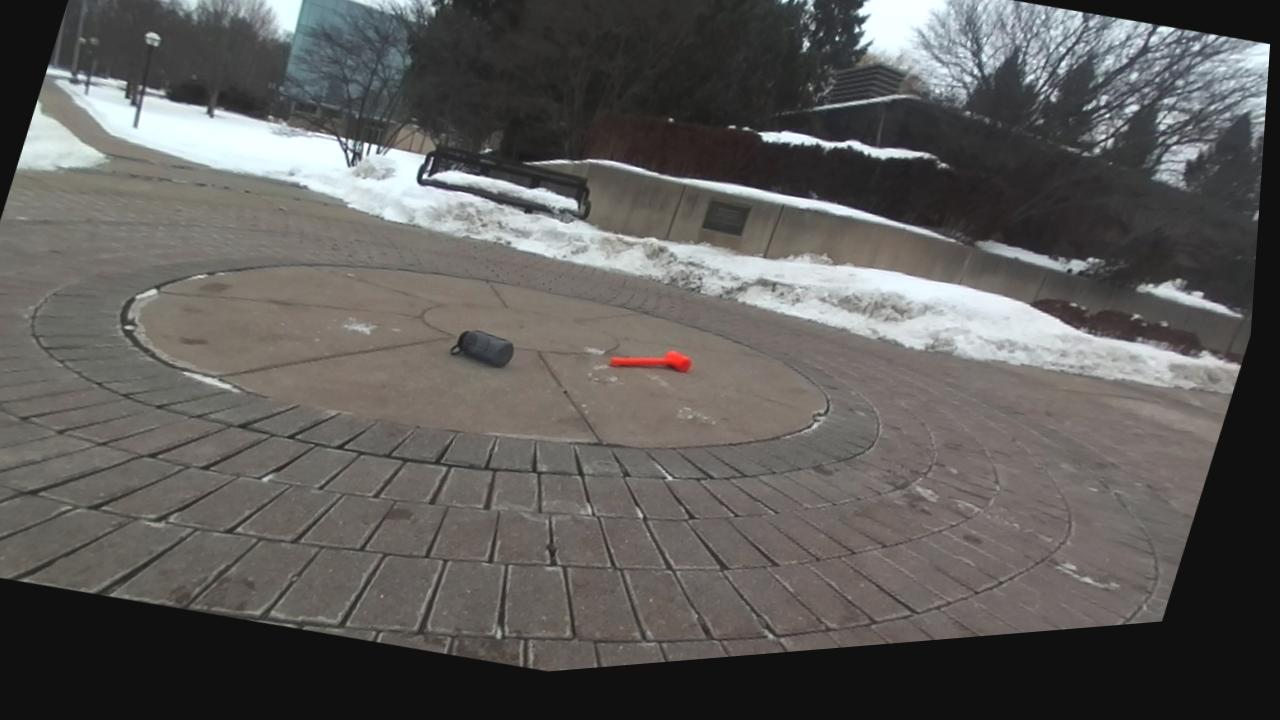bottle: (452, 330, 513, 367)
mallet: (611, 351, 691, 372)
